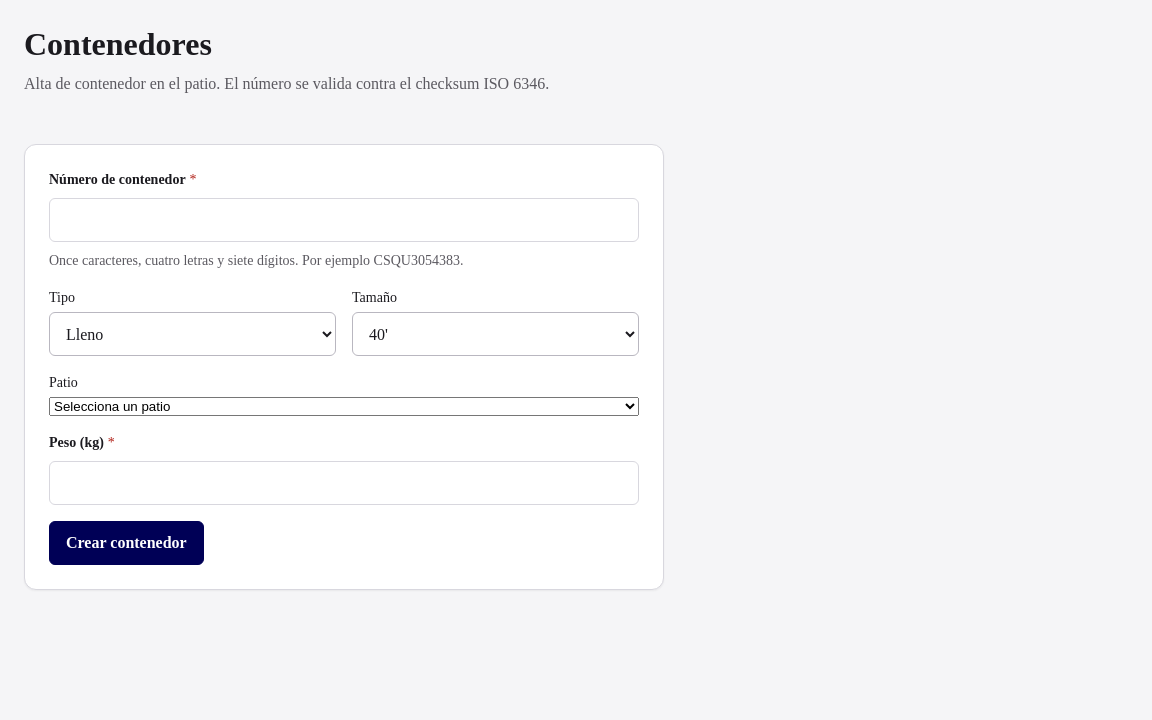
Test case: ContenedoresPage › shows the backend error message on failure
Step 1. Type "CSQU3054380" into the field labelled "Número de contenedor" → (344, 220), box [49,198,639,242]
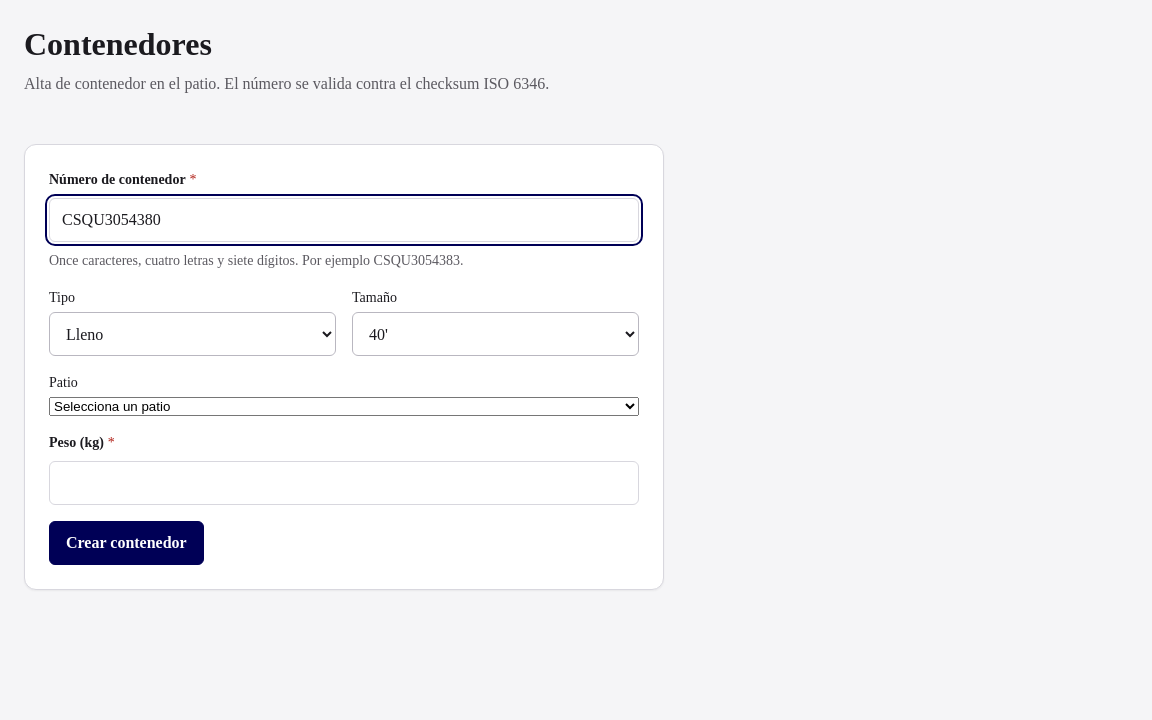
Step 2. Select "Patio Norte (PN)" in the dropdown labelled "Patio" → (344, 406), box [49,397,639,416]
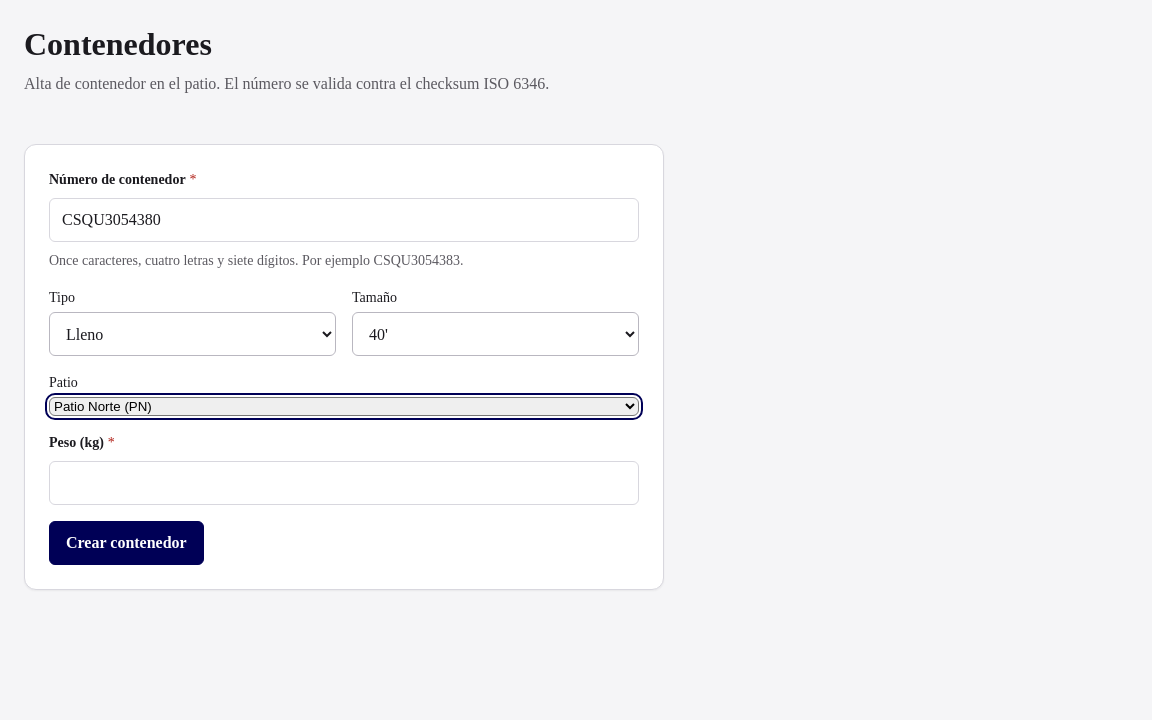
Step 3. Type "18000" into the number field labelled "Peso (kg)" → (344, 483), box [49,461,639,505]
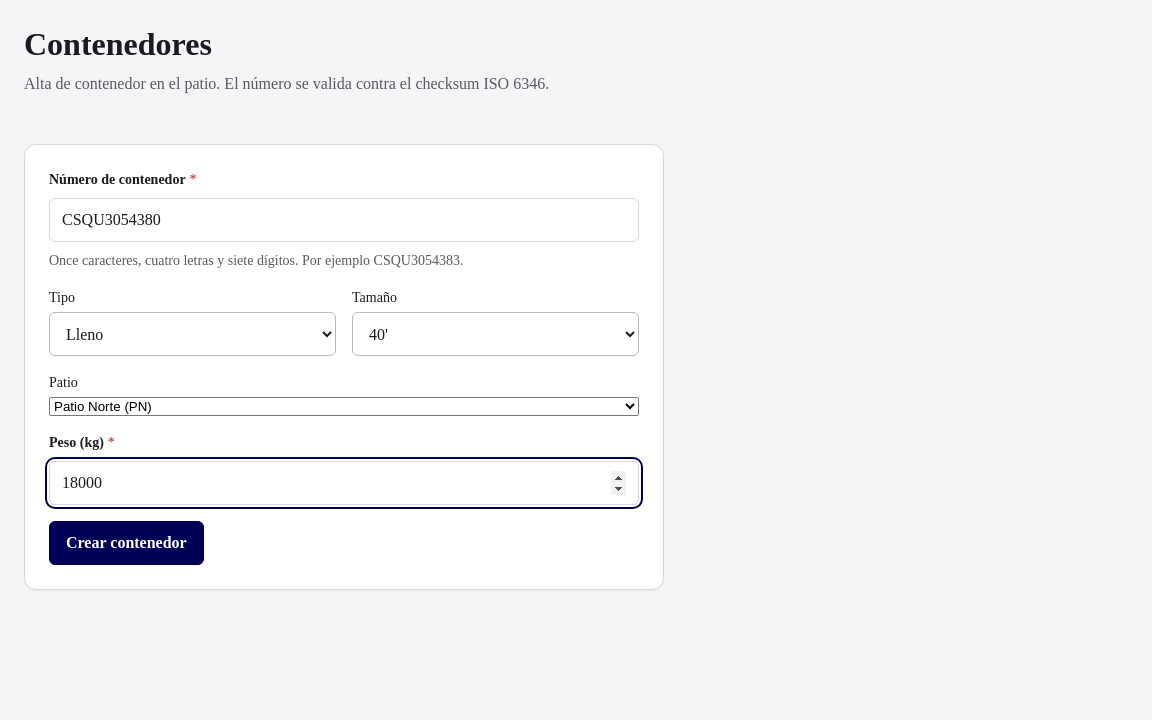
Step 4. Click the button "Crear contenedor" → (126, 543), box [49,521,204,565]
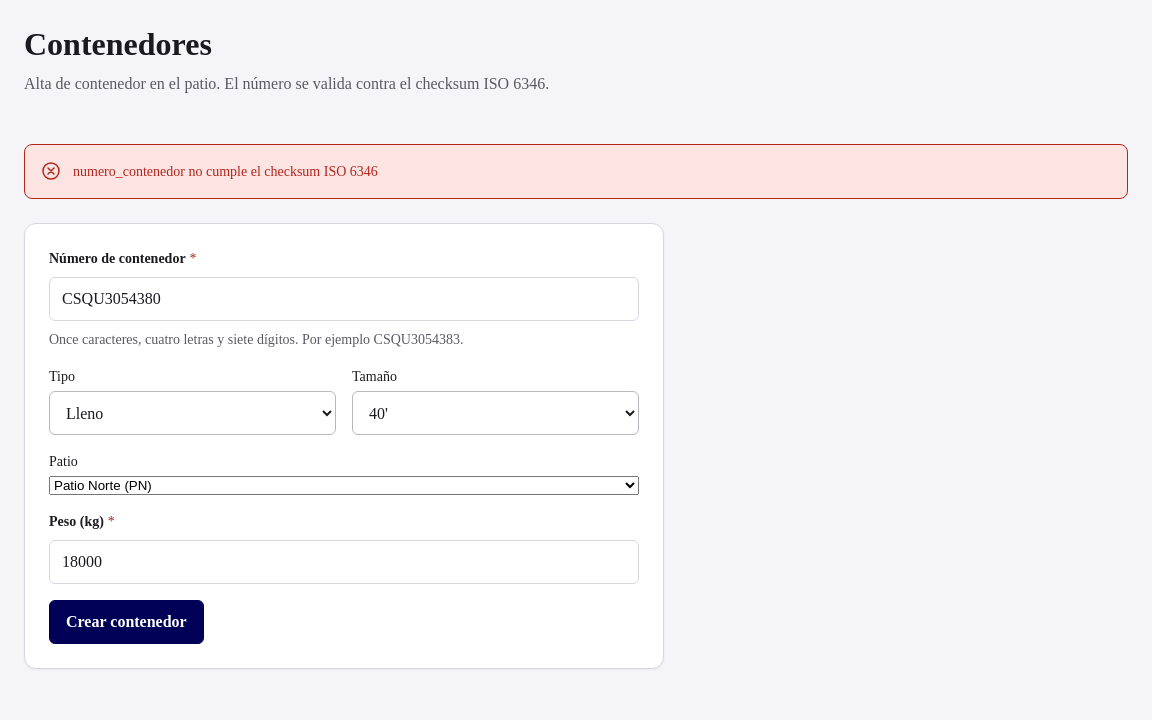
Check: the message reads "numero_contenedor no cumple el checksum ISO 6346", box [73,164,378,179]
